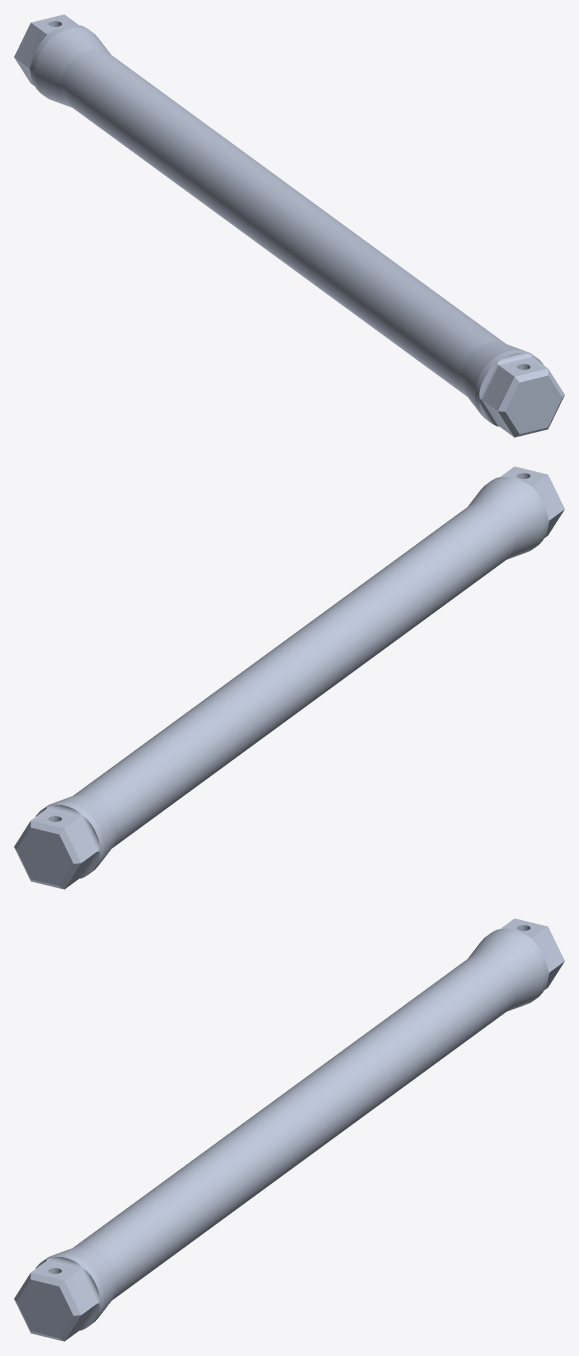
Rendered from UA_26_Rear_ARB_Assy__UA_25_Rear_ARB_Torsion_Bar_V3_1.dae.
3 renders of one model, top to bottom at view 1: azimuth 30°, elevation 25°; view 2: azimuth 150°, elevation 25°; view 3: azimuth 330°, elevation 25°, orthographic.
Parts seen in each view (by area): view 1: node0; view 2: node0; view 3: node0.
Boxes of the visible parts, x1,y1,x2,y2 form: node0: (14, 14, 564, 437); node0: (14, 466, 564, 889); node0: (14, 918, 564, 1341).
Bounding box in the file's own units: 0.025 × 0.0249 × 0.3054.
